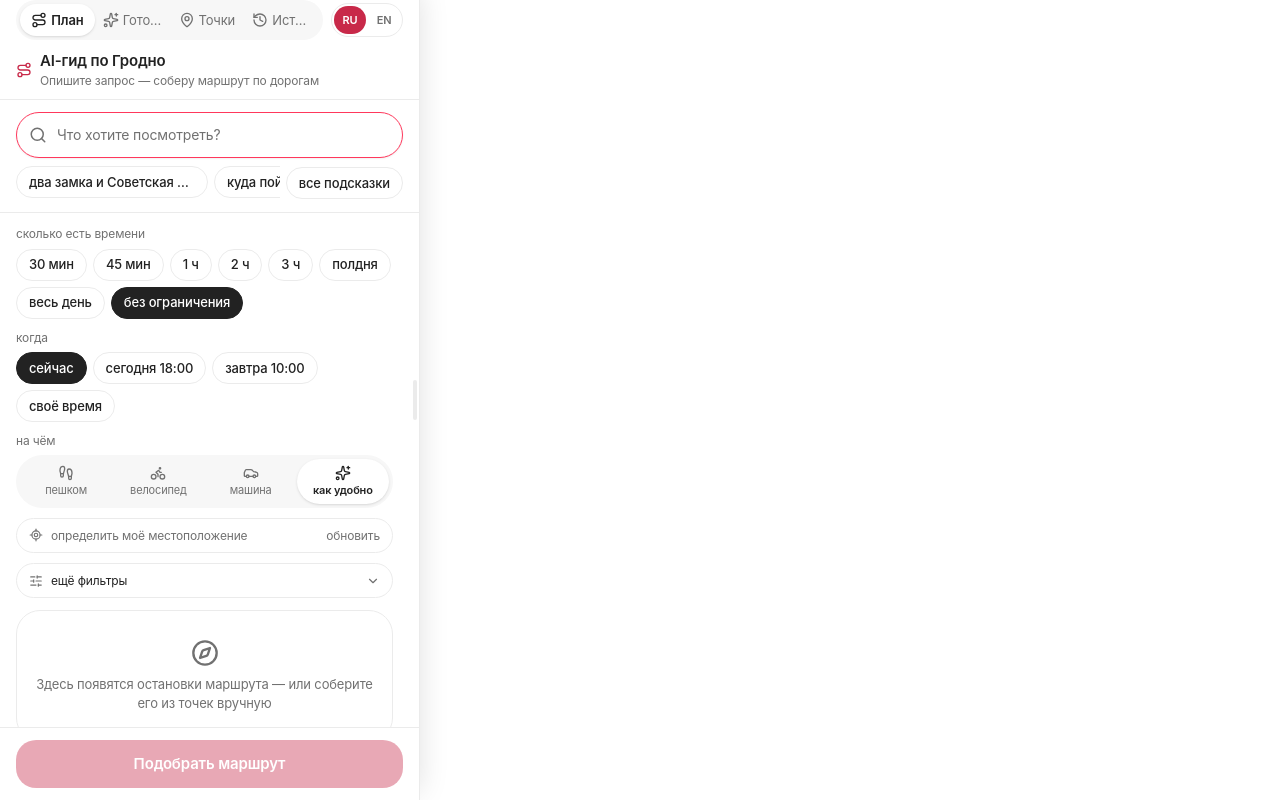
Scenario: Sidebar › lists every starter in a dialogue instead of scrolling the row past them
Click the button with test id "hints-all": (344, 183) [286,167,403,199]
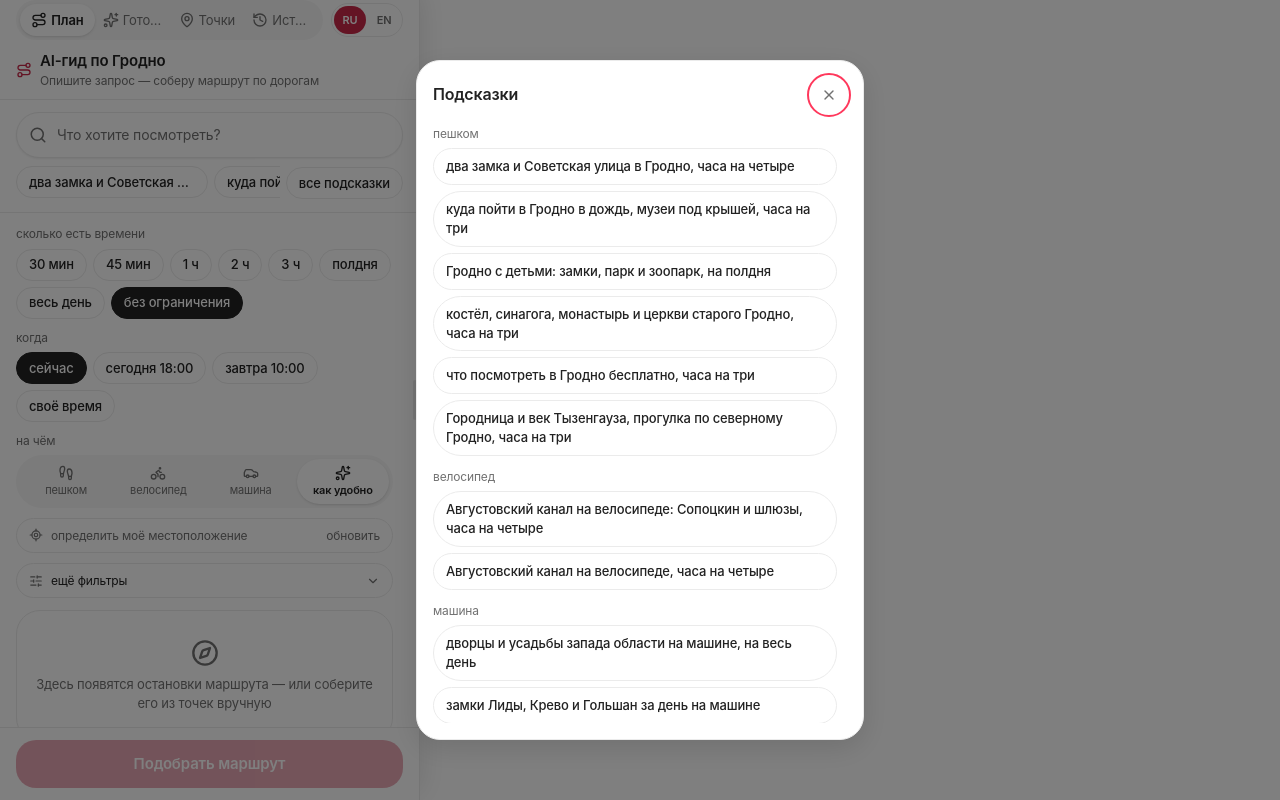
Expected: the button with test id "dialog-hint-bicycle-canal" reads "Августовский канал на велосипеде: Сопоцкин и шлюзы, часа на четыре", [433,491,837,547]
Expected: the text "пешком" is shown, [433,126,479,141]
Expected: the text "велосипед" is shown, [433,469,495,484]
